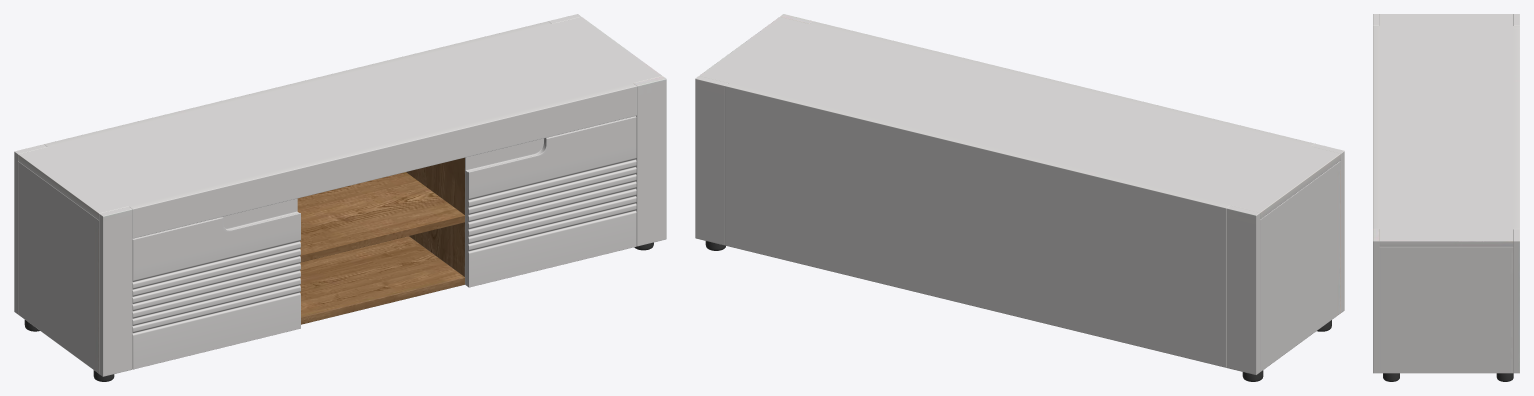
File: abo-B07SB8WWHD.glb
3 renders of one model, left to right at view 1: azimuth 30°, elevation 25°; view 2: azimuth 150°, elevation 25°; view 3: azimuth 270°, elevation 25°, orthographic. The views are drawn at different scales.
Bounding box in the file's own units: 1.5 × 0.44 × 0.41.
1 material, 1 textured.
